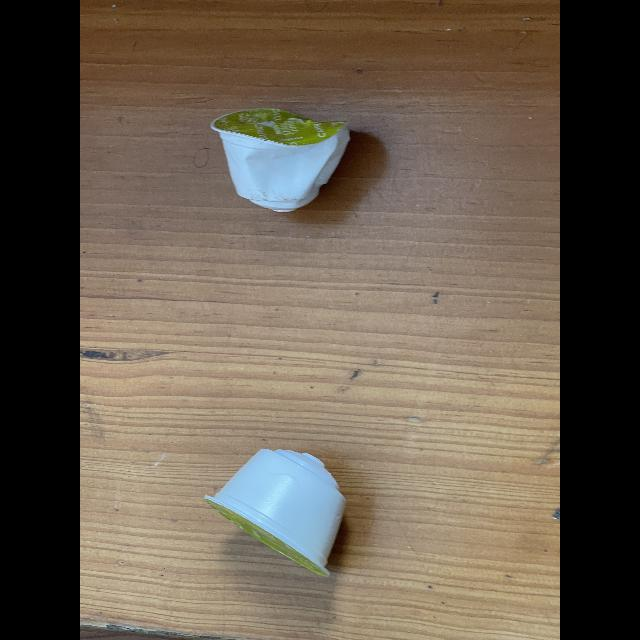damaged_capsule: (203, 92, 364, 226)
intact_capsule: (196, 437, 374, 589)
